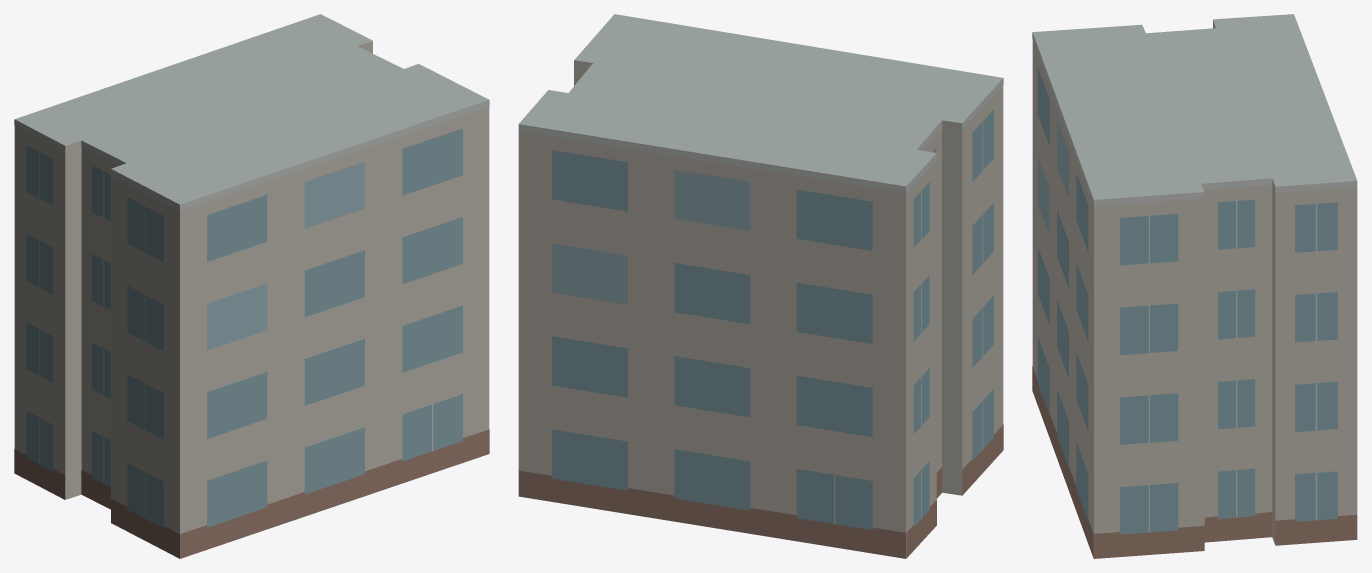
The model's file is survey-upis-32701269.glb.
The picture shows the model from 3 angles, left to right: view 1: azimuth 30°, elevation 25°; view 2: azimuth 150°, elevation 25°; view 3: azimuth 270°, elevation 25°; orthographic projection. The views are drawn at different scales.
Visible parts, largest first — view 1: survey-upis-32701269.tmp; view 2: survey-upis-32701269.tmp; view 3: survey-upis-32701269.tmp.
Boxes of the visible parts, box(x1,y1,x2,y2) form: survey-upis-32701269.tmp: box(14, 14, 489, 558); survey-upis-32701269.tmp: box(518, 14, 1003, 558); survey-upis-32701269.tmp: box(1032, 14, 1357, 558).
Size of the model in its own units: 14.57 by 13.1 by 10.76.
